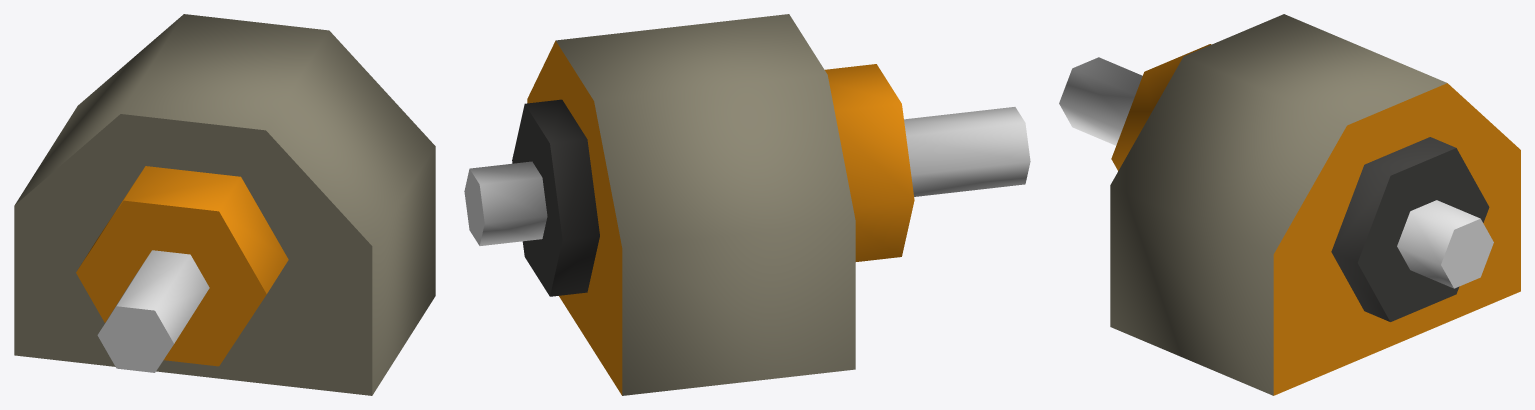
The model's file is stack-motor.glb.
The picture shows the model from 3 angles, left to right: view 1: azimuth 30°, elevation 25°; view 2: azimuth 150°, elevation 25°; view 3: azimuth 270°, elevation 25°; orthographic projection. The views are drawn at different scales.
Visible parts, largest first — view 1: Cube.030; view 2: Cube.030; view 3: Cube.030.
Boxes of the visible parts, bbox=[...] form: Cube.030: bbox=[14, 14, 435, 395]; Cube.030: bbox=[464, 14, 1030, 395]; Cube.030: bbox=[1059, 14, 1520, 395].
Size of the model in its own units: 4.5 by 2.57 by 4.5.
1 material, 1 textured.
